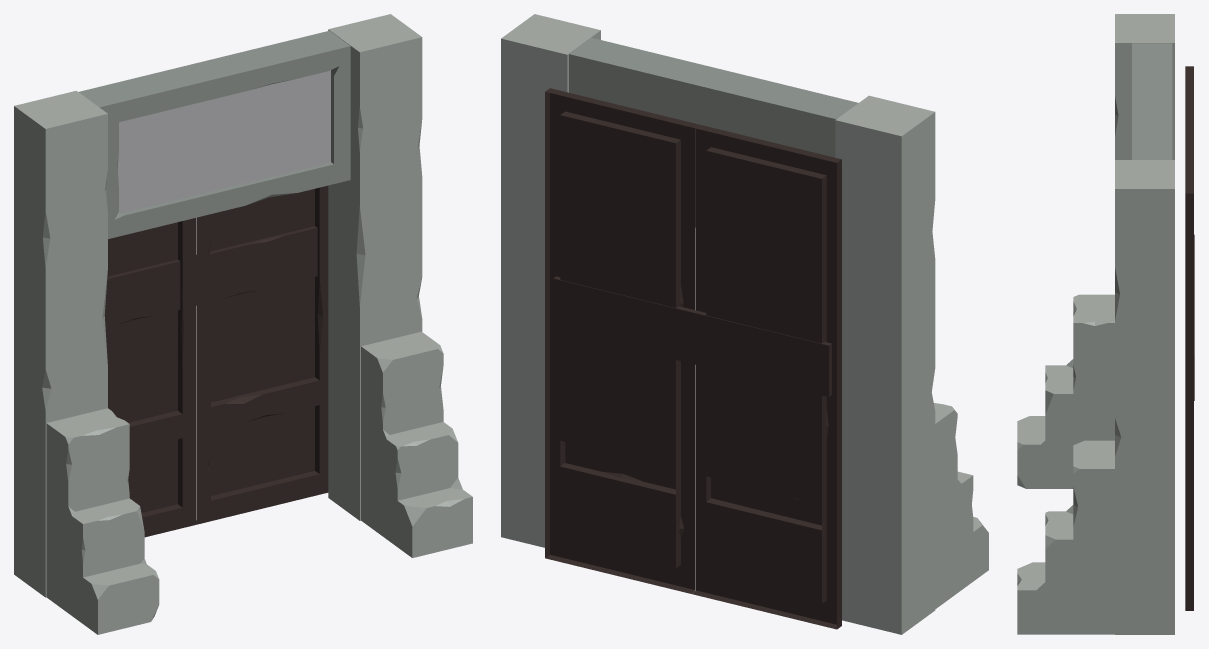
The model's file is SM_Env_Door_07.fbx.
3 views of the same model, side by side, from view 1: azimuth 30°, elevation 25°; view 2: azimuth 150°, elevation 25°; view 3: azimuth 270°, elevation 25° (orthographic). The views are drawn at different scales.
Parts seen in each view (by area): view 1: SM_Env_Door_07; view 2: SM_Env_Door_07; view 3: SM_Env_Door_07.
Part boxes in pixels (box(x1,y1,x2,y2)): SM_Env_Door_07: box(14, 14, 472, 634); SM_Env_Door_07: box(501, 14, 988, 634); SM_Env_Door_07: box(1017, 14, 1194, 634).
Size of the model in its own units: 144 by 172 by 61.97.
1 material, 1 textured.
